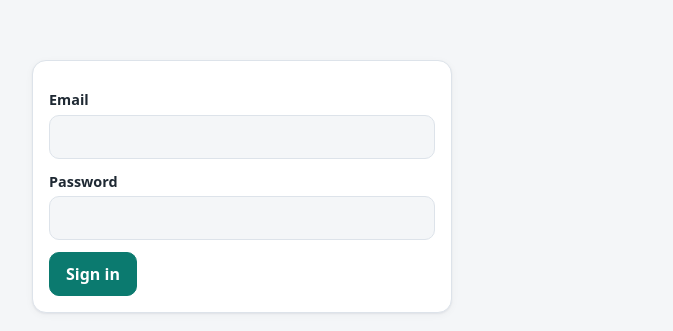
LoginGate › shows the app after signing in with the right password
Step 1. Type "me@example.com" into the field labelled "Email" → point(242, 137), box [49,115,435,159]
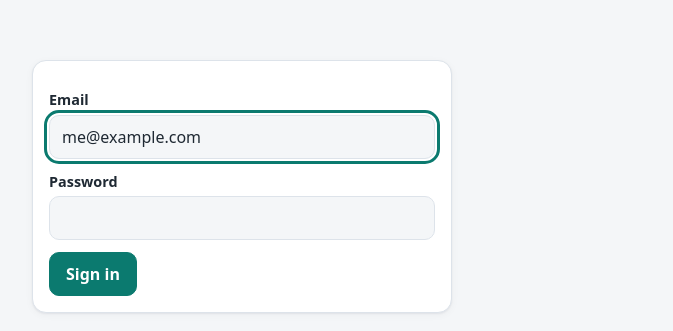
Step 2. Type "password123" into the password field labelled "Password" → point(242, 218), box [49,196,435,240]
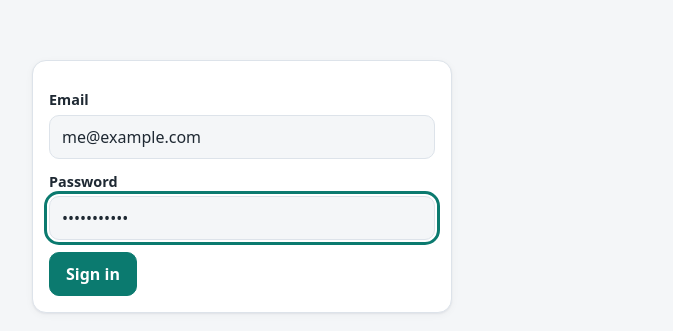
Step 3. Click the button "Sign in" → point(93, 274), box [49,252,137,296]
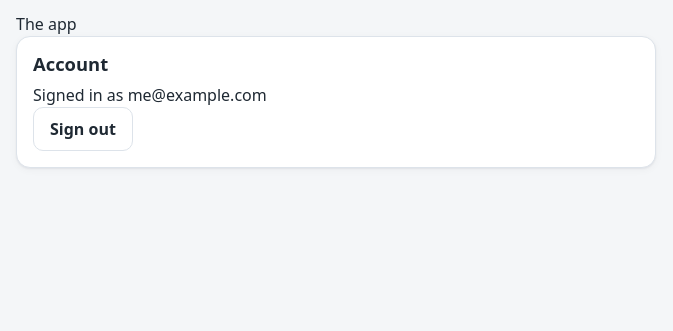
Check: the text "The app" is shown, box [16,13,77,35]
Check: the text "Signed in as me@example.com" is shown, box [33,84,267,106]
